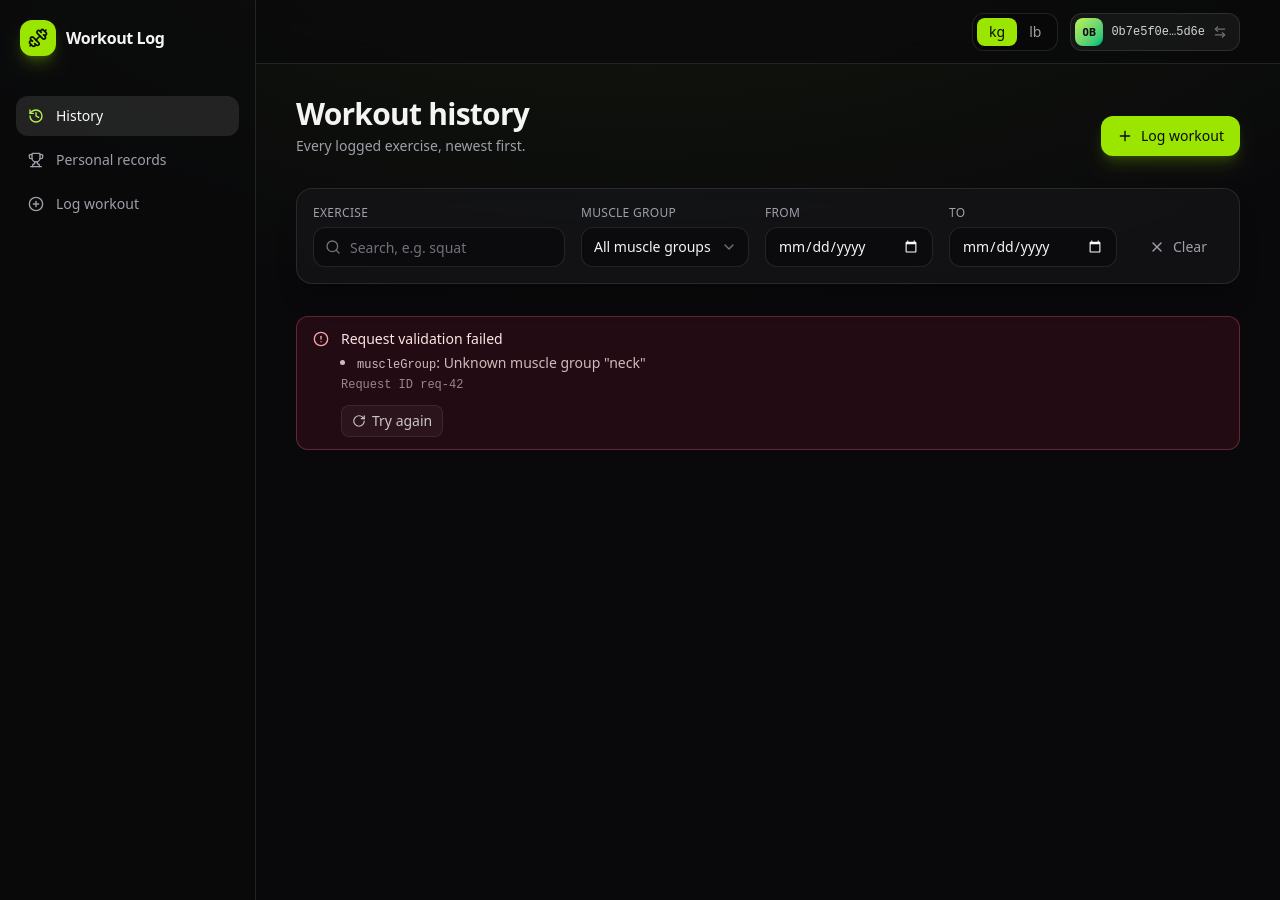
Test: HistoryPage › shows API errors with field details and the request id, and can retry
The width and height of the screenshot is (1280, 900).
Expected: the message shows "Request validation failed", top-left (341, 329), bottom-right (503, 348)
Expected: the message shows "muscleGroup: Unknown muscle group \"neck\"", top-left (296, 316), bottom-right (1240, 450)
Click the button "Try again".
click(392, 421)  # box top-left (341, 405), bottom-right (443, 437)
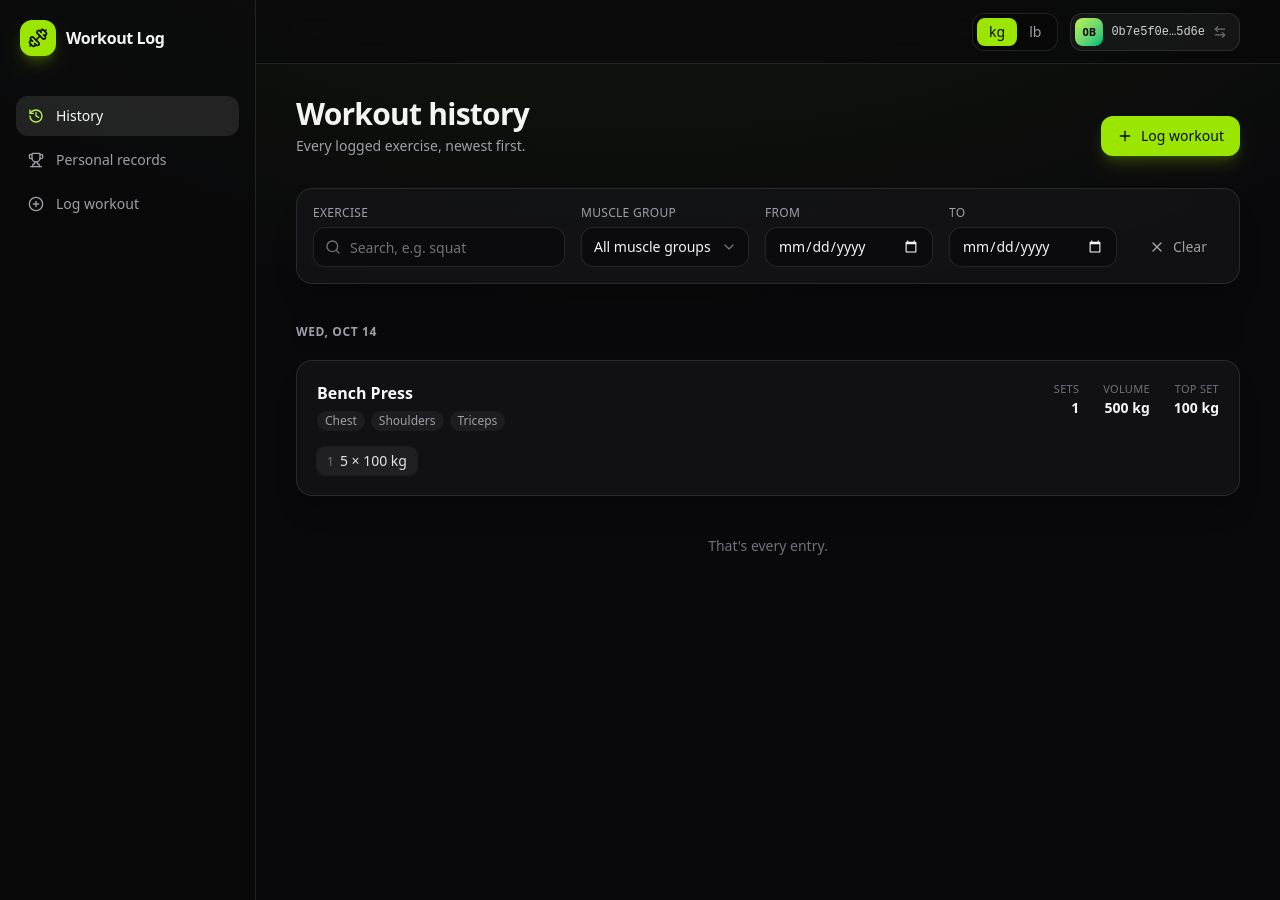
Expected: the list item "5 × 100 kg" is shown, top-left (340, 451), bottom-right (407, 470)
